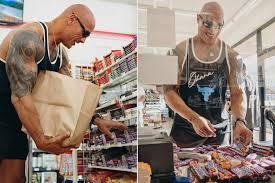Normal: (2, 40, 139, 183), (141, 46, 275, 183)
